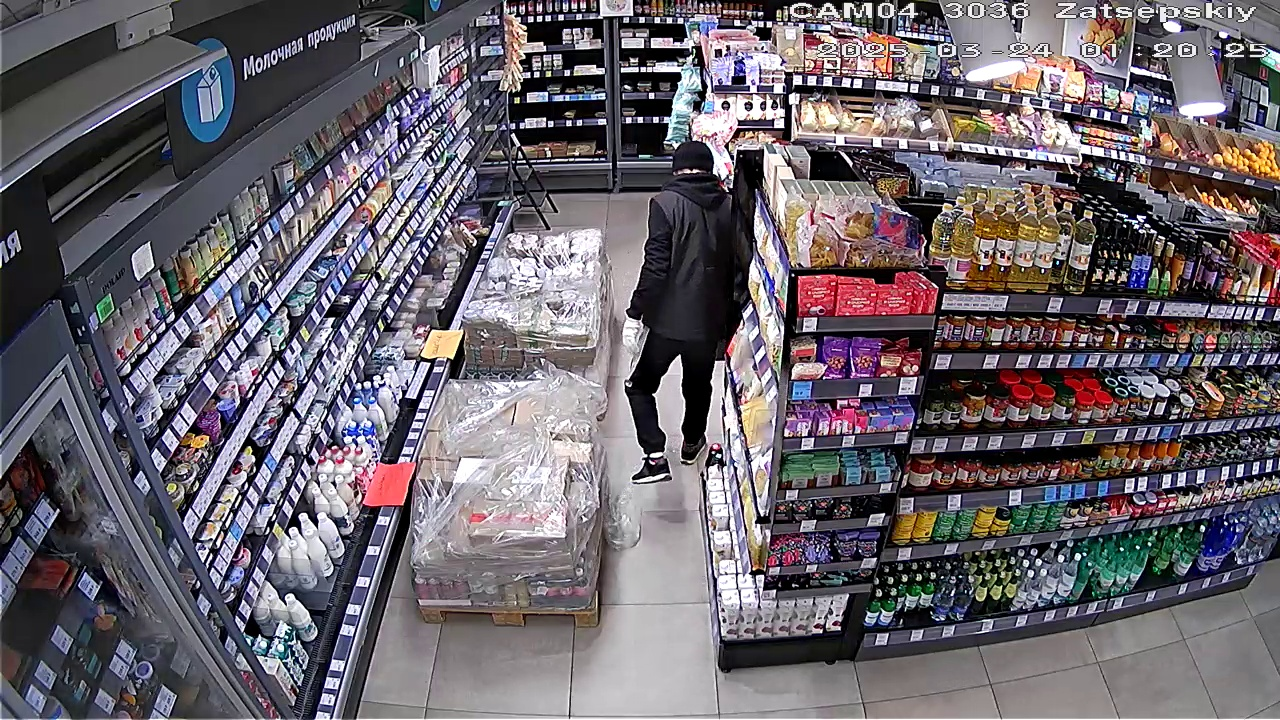Human: (620, 135, 743, 483)
pallet: (404, 374, 604, 624), (465, 230, 608, 389)
